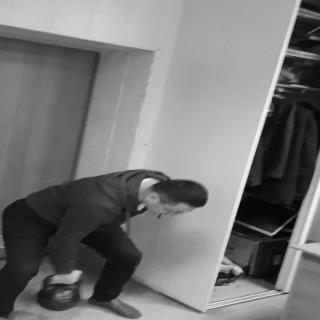girya: (38, 274, 86, 313)
